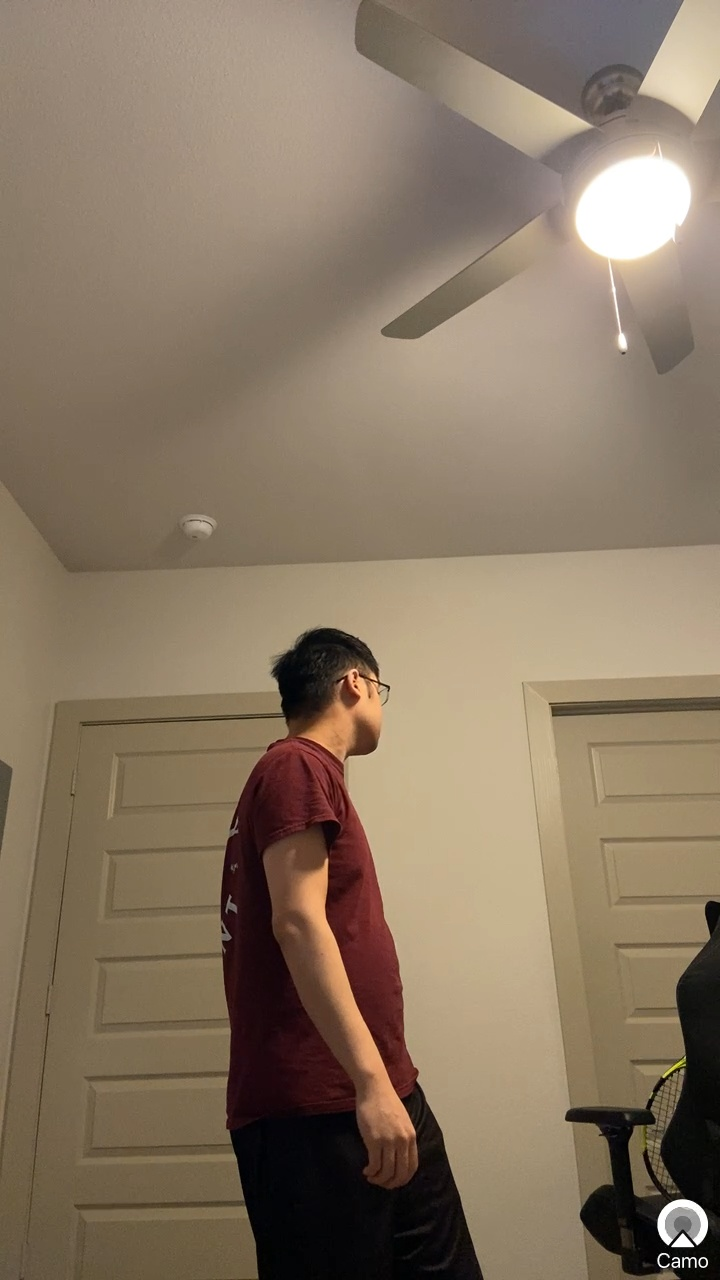Person: (181, 612, 525, 1280)
